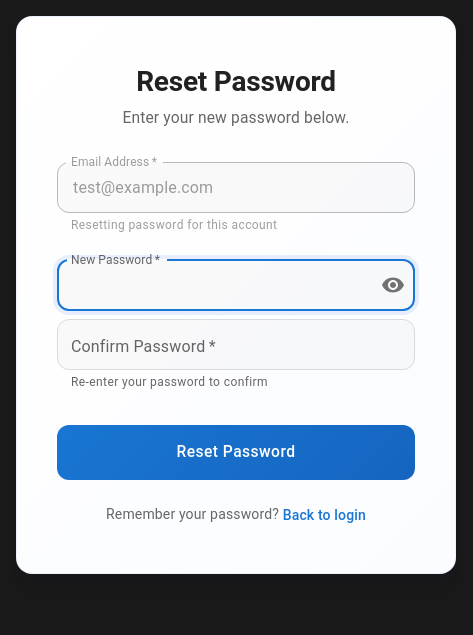
Test: PasswordResetConfirmForm › form validation › should show error when confirm password is empty
Note: Fill new password, leave confirm empty
Step 1. Type "StrongP@ss1" into the password field labelled "New Password *" → (211,285), box [57, 260, 365, 311]
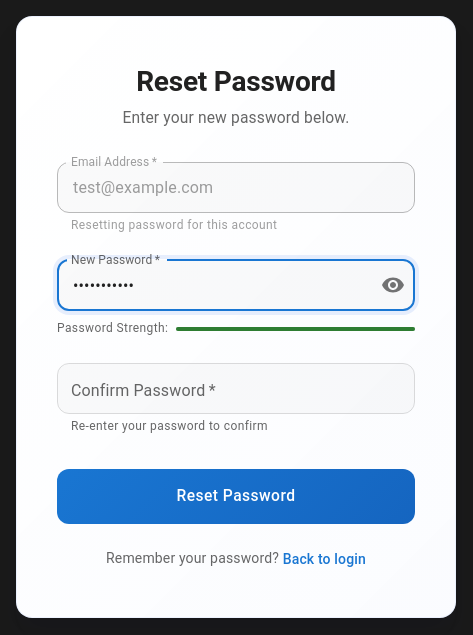
Step 2. Click the button "Reset Password" → (236,496), box [57, 469, 415, 524]
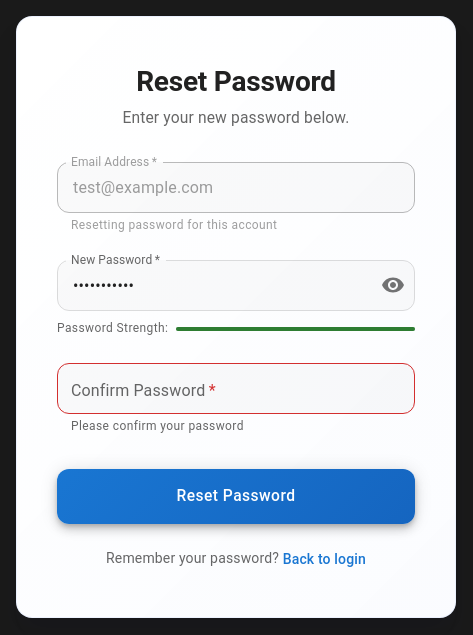
Expected: the text "Please confirm your password" is shown, [71, 419, 244, 433]
